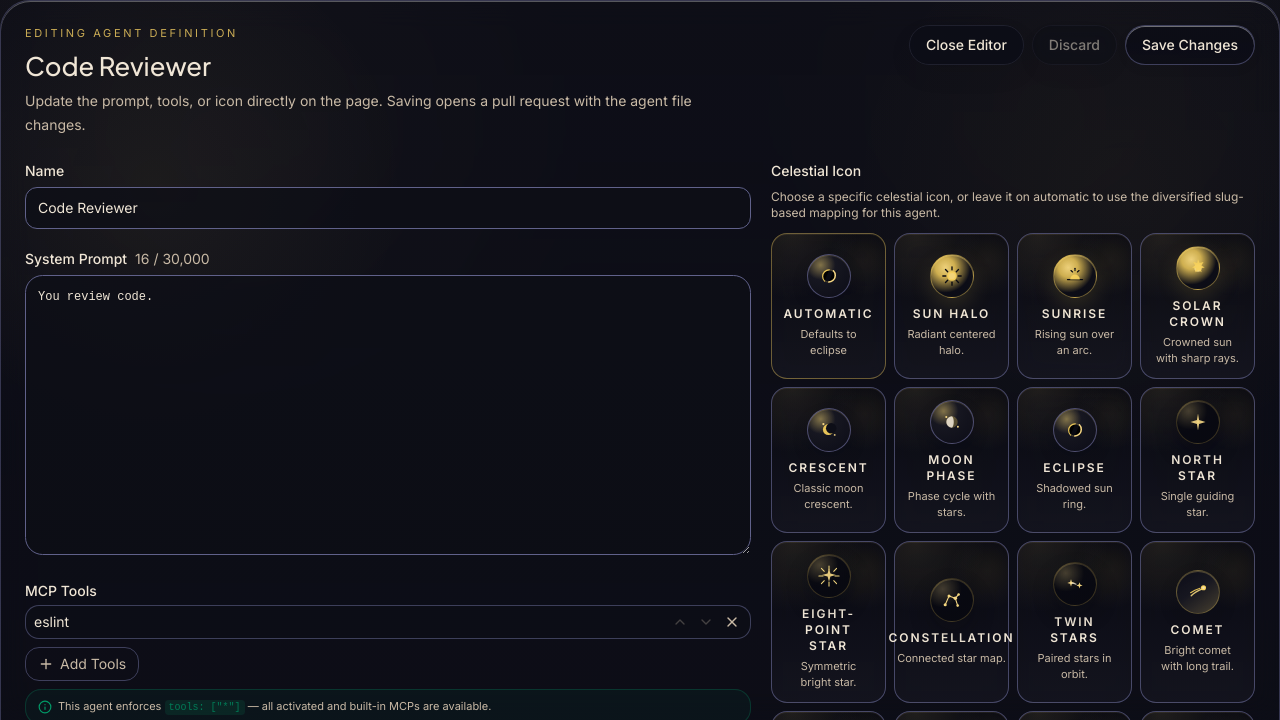
Test: AgentInlineEditor › resets fields when Discard is clicked after making changes
Replace the text in the field labelled "Name" with "Different Name" at (388, 208), box 25,188 -> 751,230
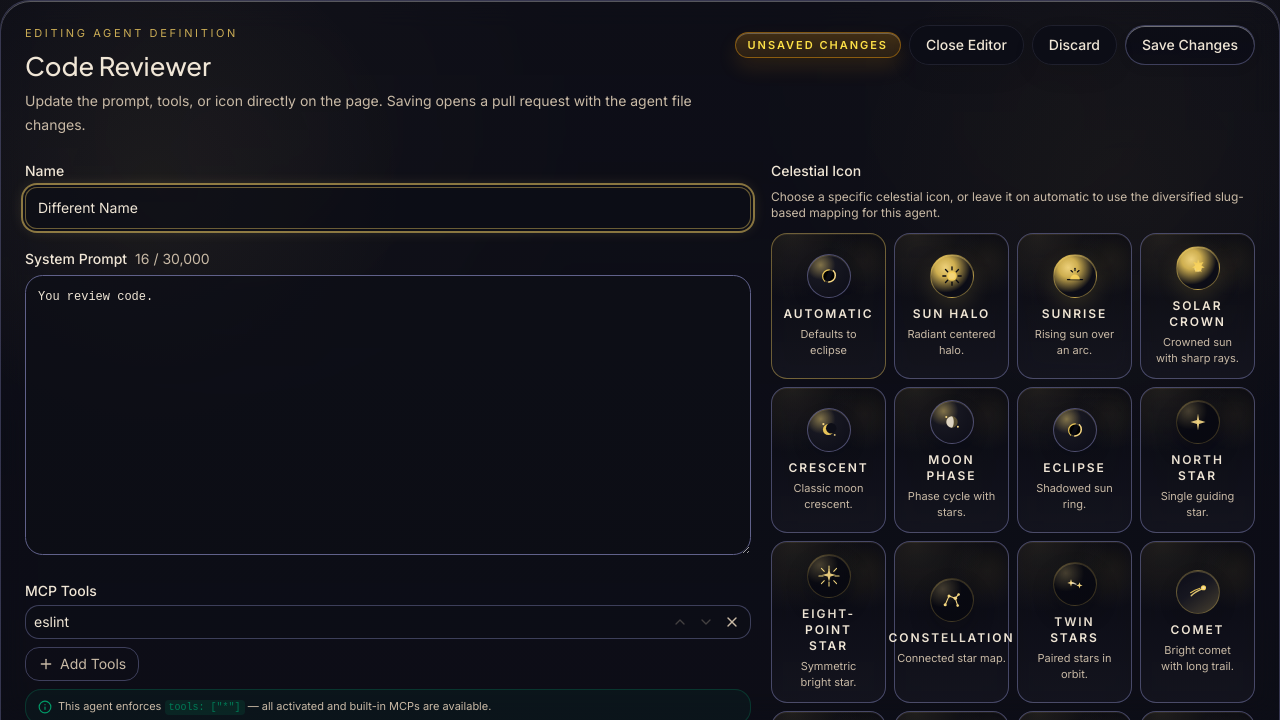
Note: Discard should now be enabled
Click the button "Discard" at (1074, 45), box 1032,25 -> 1117,65
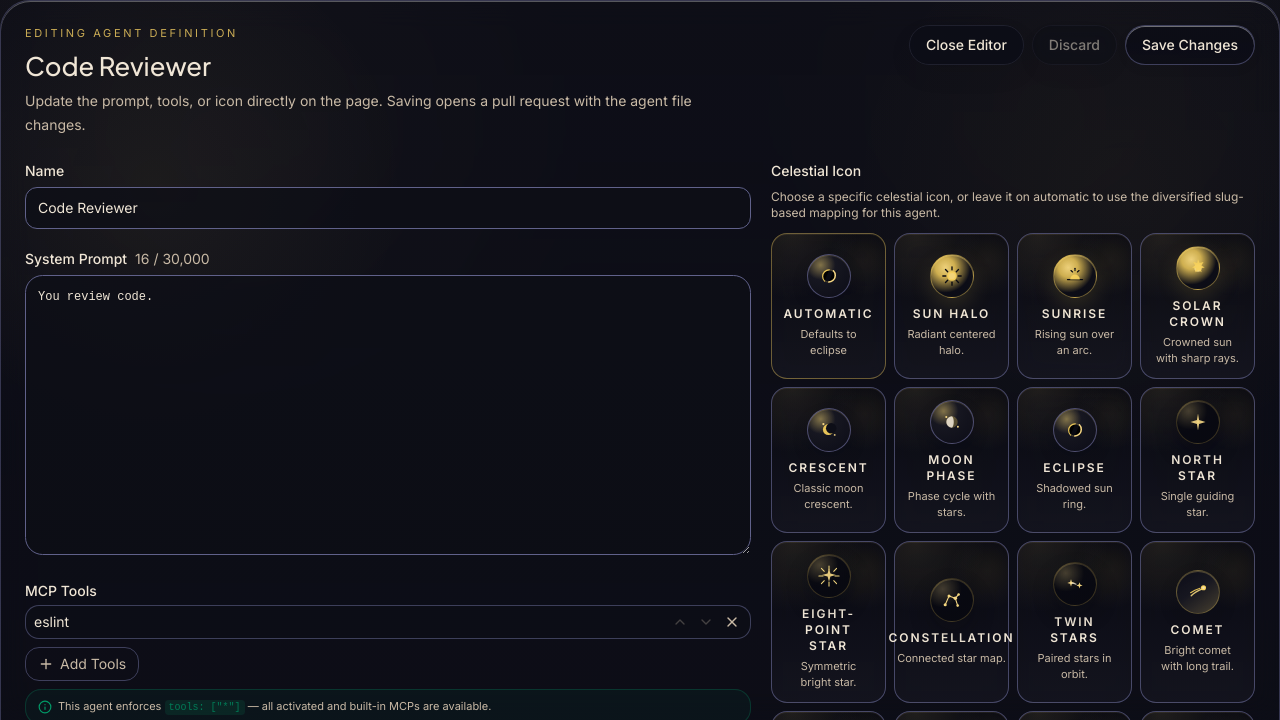
Check: the field labelled "Name" holds "Code Reviewer", box 25,188 -> 751,230
